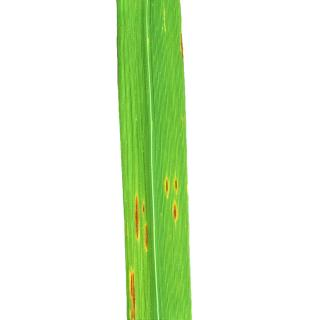Bercak-Cokelat-Sempit: (126, 265, 140, 320), (130, 190, 142, 250), (156, 172, 173, 202), (168, 196, 183, 224), (172, 169, 184, 198)
